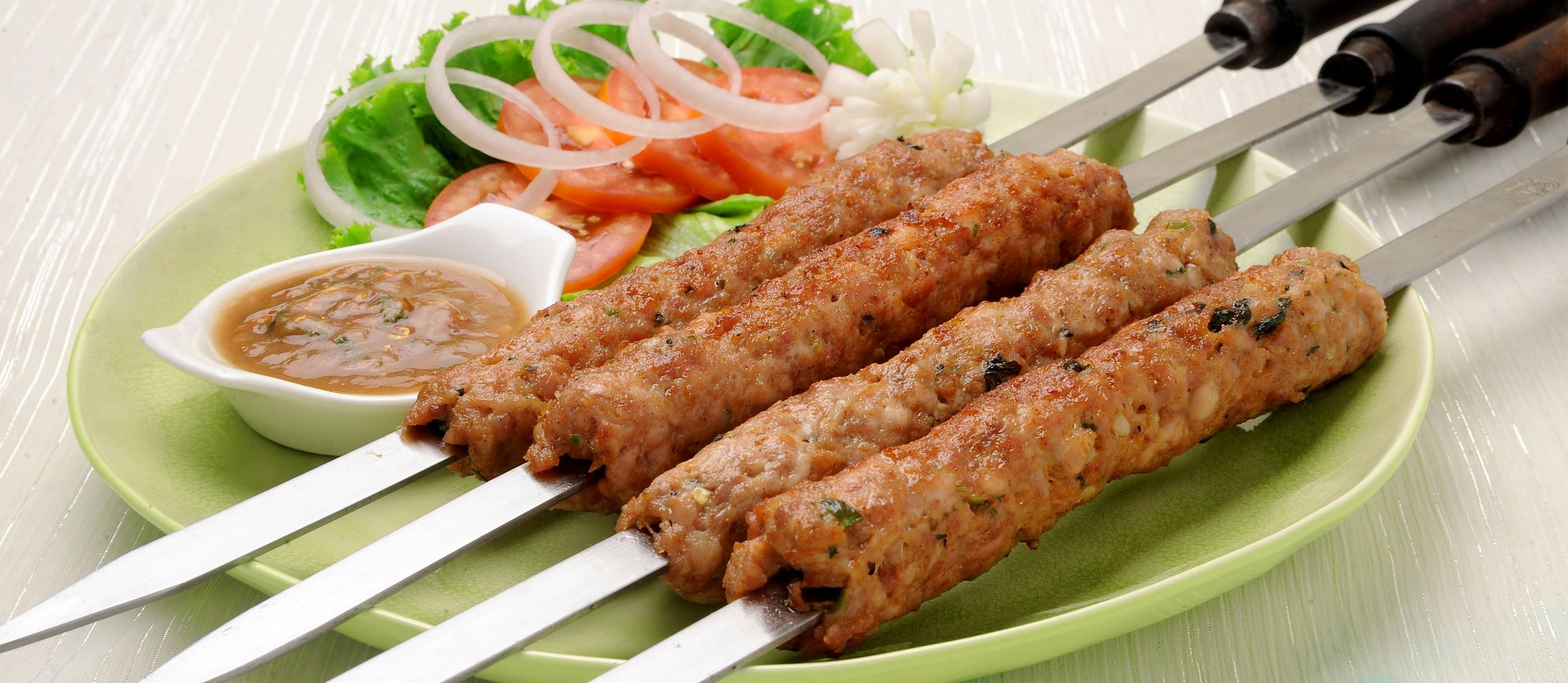Kebab: (729, 247, 1394, 646), (622, 209, 1239, 596), (529, 150, 1136, 503), (402, 128, 993, 472)
